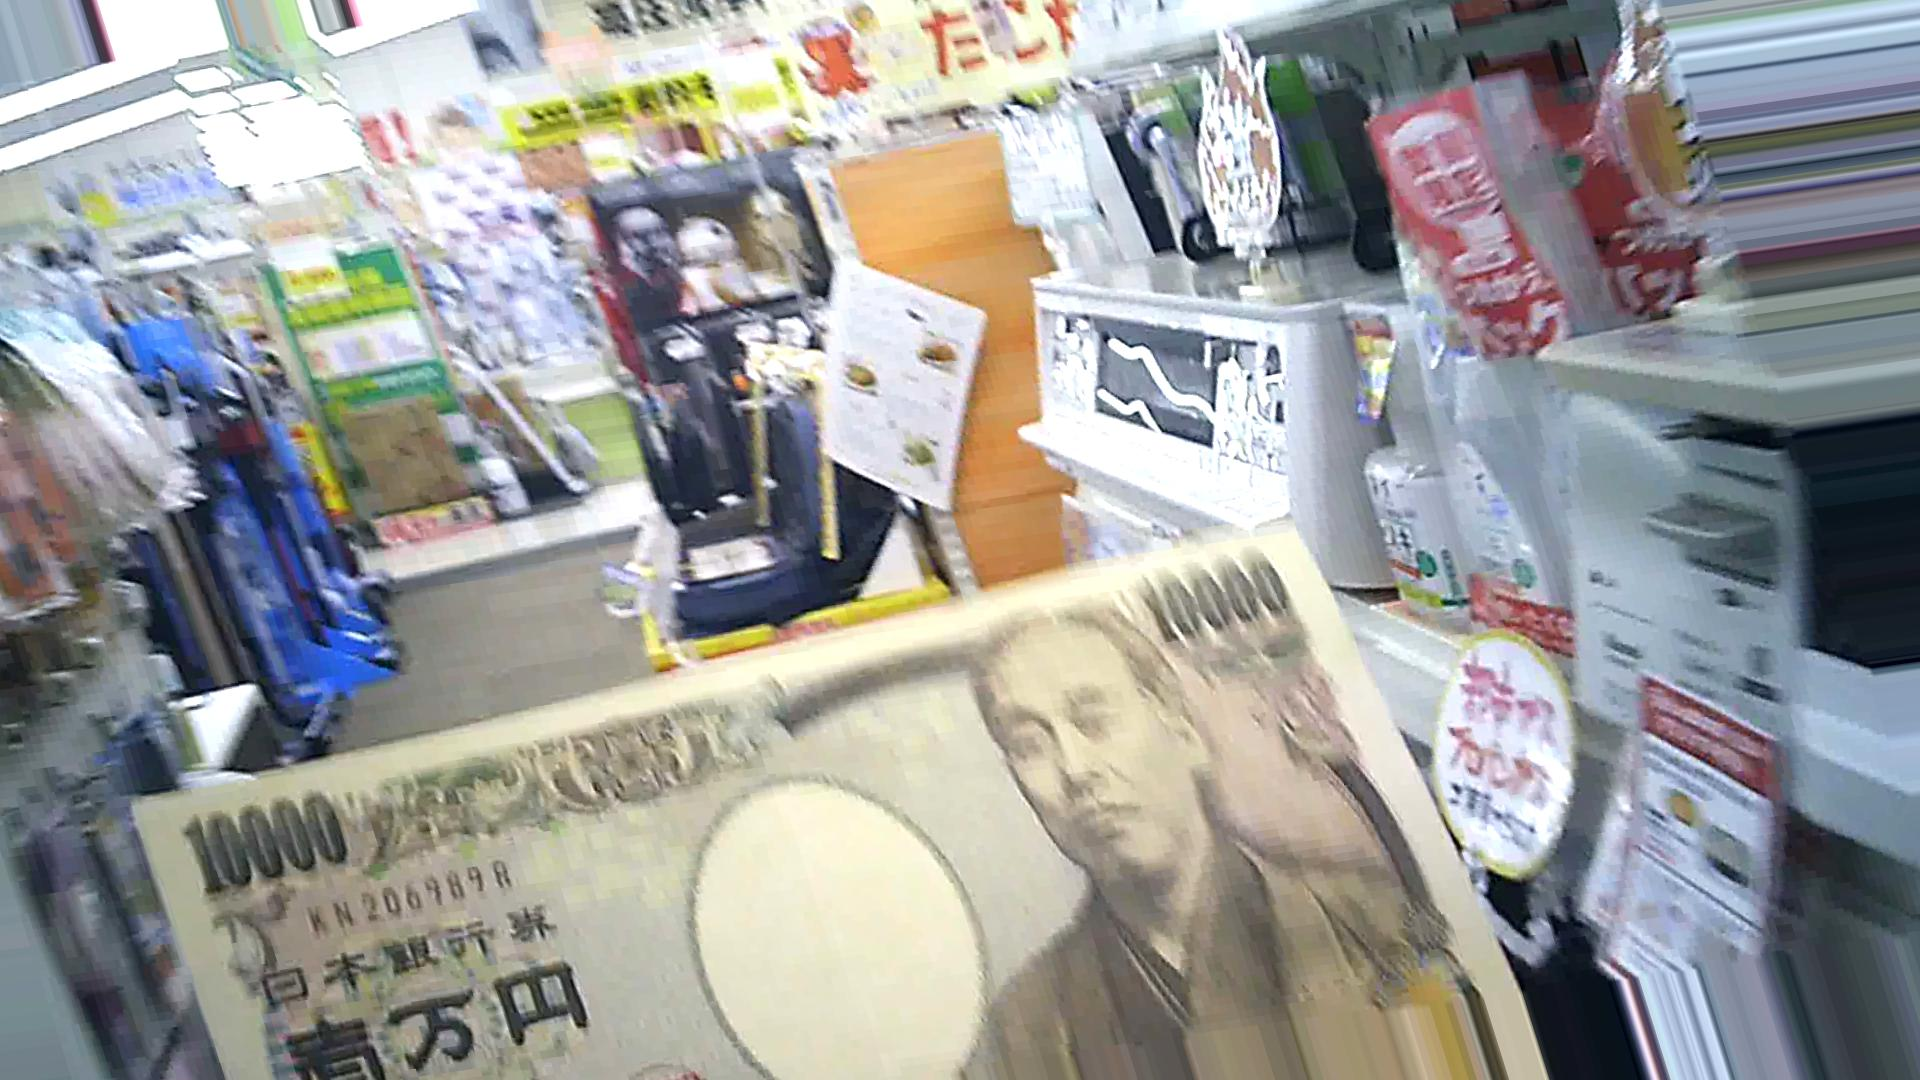10,000 Yen: (125, 564, 1482, 1079)
